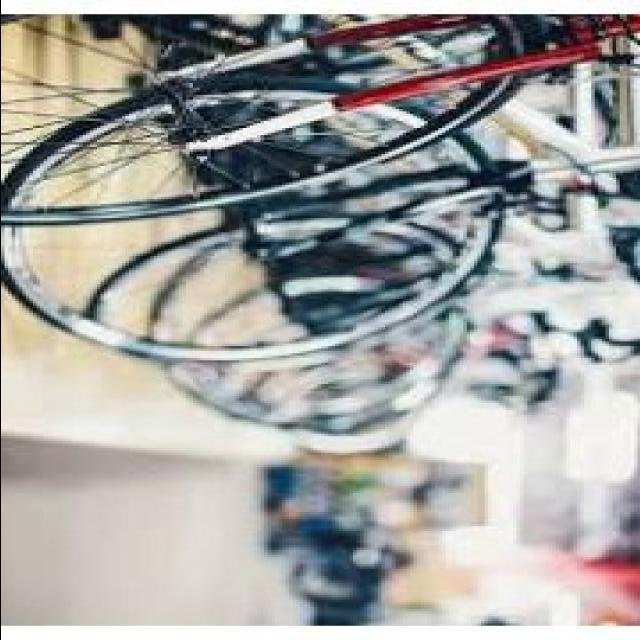bicycle: (5, 13, 623, 407)
